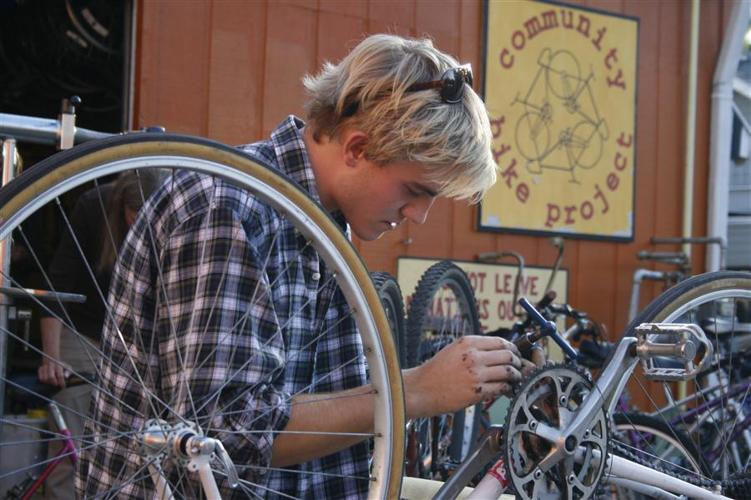person: (70, 24, 523, 500)
